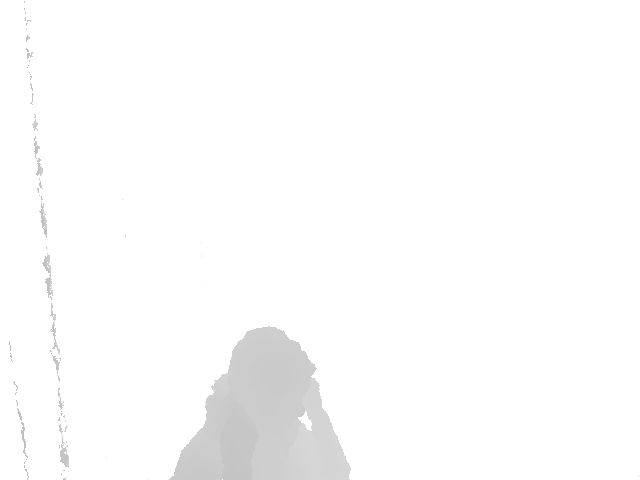head: (228, 327, 316, 420)
person: (168, 328, 352, 480)
